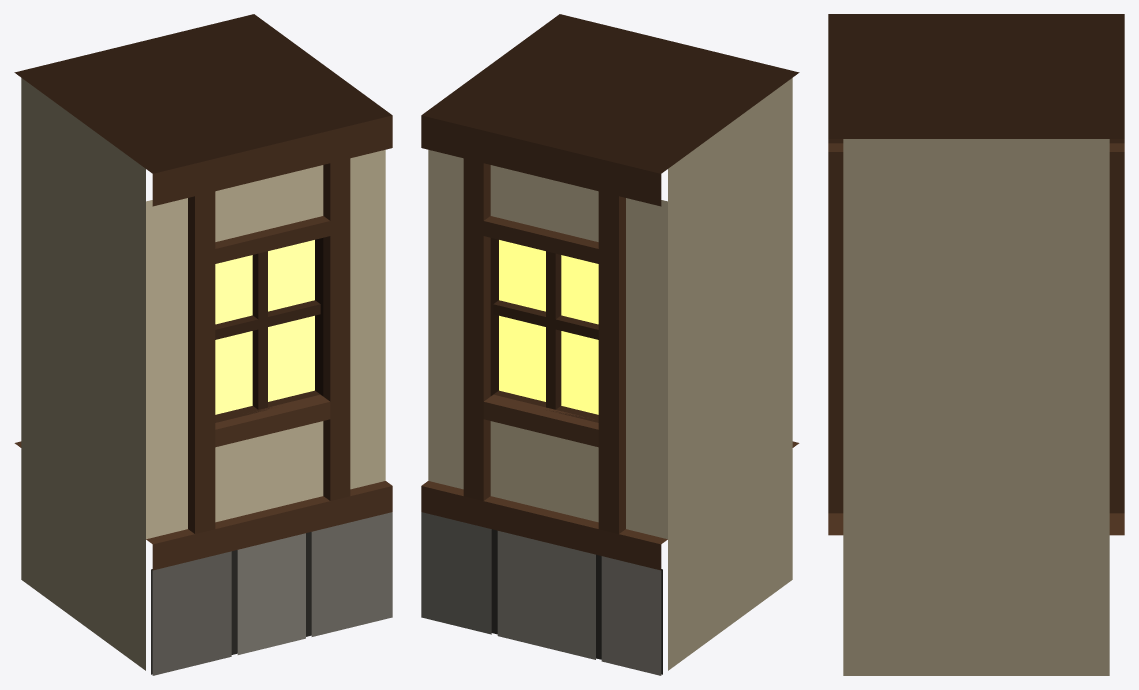
The model's file is tile_house_wall_12_2.glb.
3 renders of one model, left to right at view 1: azimuth 30°, elevation 25°; view 2: azimuth 150°, elevation 25°; view 3: azimuth 270°, elevation 25°, orthographic. The views are drawn at different scales.
Visible parts, largest first — view 1: tile_house_wall_12_2; view 2: tile_house_wall_12_2; view 3: tile_house_wall_12_2.
Part boxes in pixels (left/top/right/bottom): tile_house_wall_12_2: left=14, top=14, right=392, bottom=675; tile_house_wall_12_2: left=421, top=14, right=799, bottom=675; tile_house_wall_12_2: left=828, top=14, right=1124, bottom=675.
Bounding box in the file's own units: 1 × 2 × 1.
